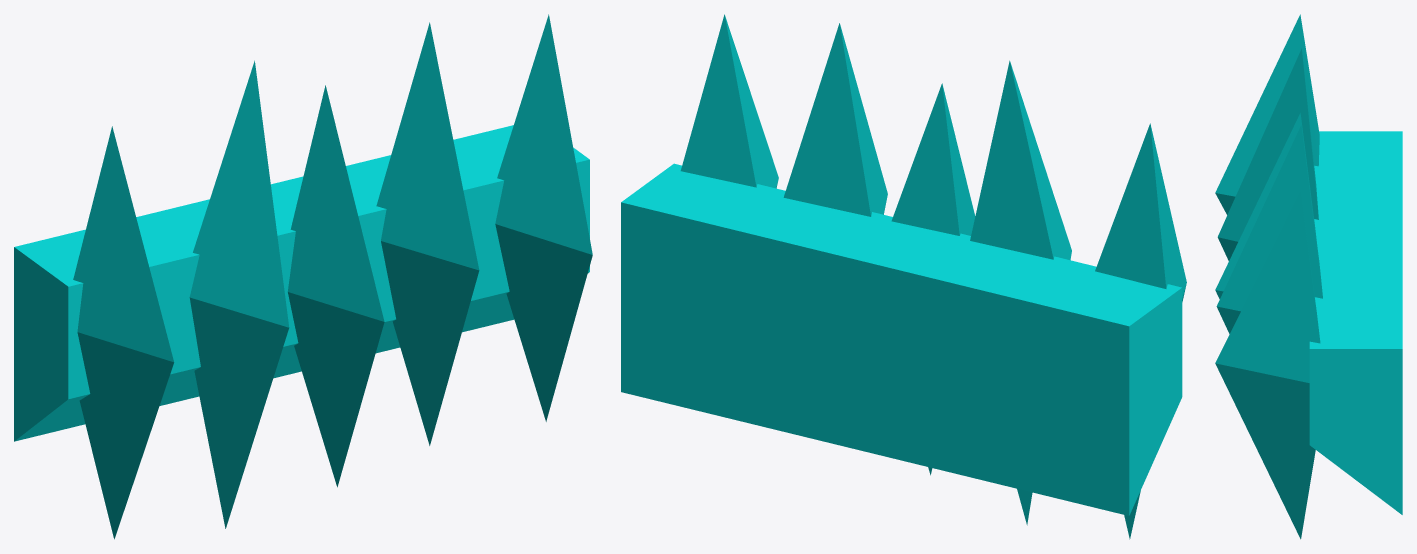
File: SM_Bld_Battlements_03_Collision.fbx
3 views of the same model, side by side, from view 1: azimuth 30°, elevation 25°; view 2: azimuth 150°, elevation 25°; view 3: azimuth 270°, elevation 25° (orthographic). The views are drawn at different scales.
Parts seen in each view (by area): view 1: SM_Bld_Battlements_03_Collision; view 2: SM_Bld_Battlements_03_Collision; view 3: SM_Bld_Battlements_03_Collision.
Part boxes in pixels (x1,y1,x2,y2): SM_Bld_Battlements_03_Collision: [14, 14, 592, 539]; SM_Bld_Battlements_03_Collision: [621, 14, 1186, 539]; SM_Bld_Battlements_03_Collision: [1215, 14, 1402, 539].
Size of the model in its own units: 500 by 429 by 182.
